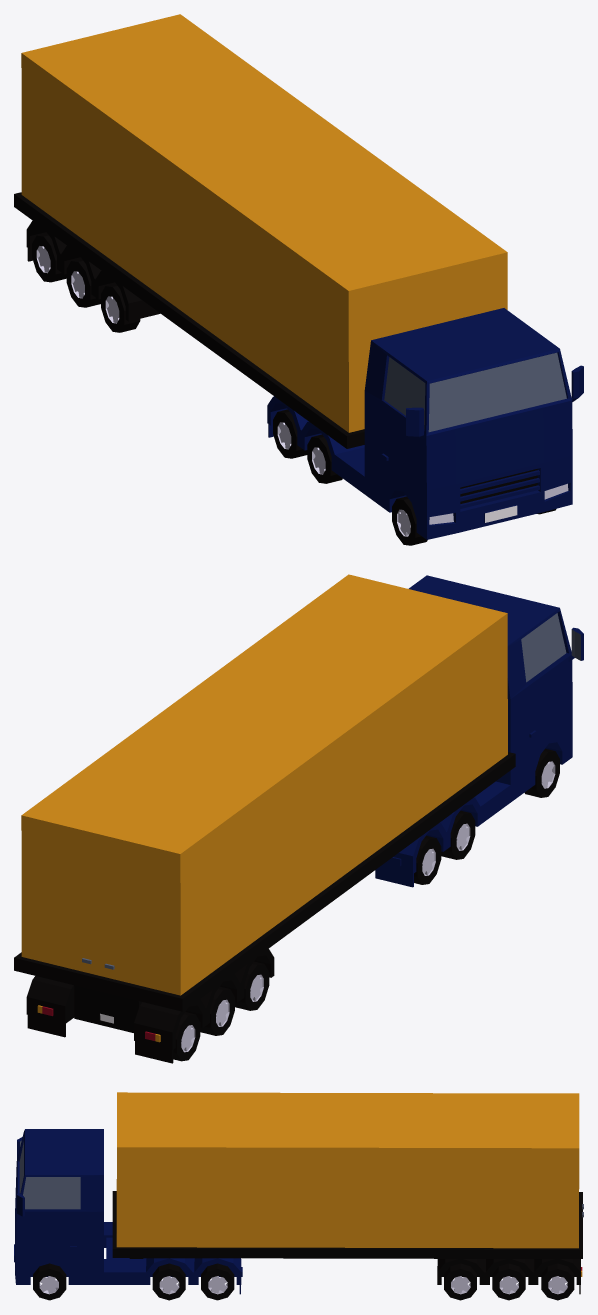
File: mod-carreta.gltf
3 views of the same model, one above another, from view 1: azimuth 30°, elevation 25°; view 2: azimuth 150°, elevation 25°; view 3: azimuth 270°, elevation 25° (orthographic). The views are drawn at different scales.
Visible parts, largest first — view 1: Truck with trailer, Truck with trailer wheel front left; view 2: Truck with trailer, Truck with trailer wheel front left; view 3: Truck with trailer, Truck with trailer wheel front left.
Part boxes in pixels (x1,y1,x2,y2): Truck with trailer: [14, 14, 583, 539]; Truck with trailer wheel front left: [32, 233, 556, 545]; Truck with trailer: [14, 574, 583, 1063]; Truck with trailer wheel front left: [173, 748, 559, 1061]; Truck with trailer: [14, 1092, 583, 1294]; Truck with trailer wheel front left: [33, 1263, 574, 1300].
Size of the model in its own units: 3 by 3.56 by 11.81.
